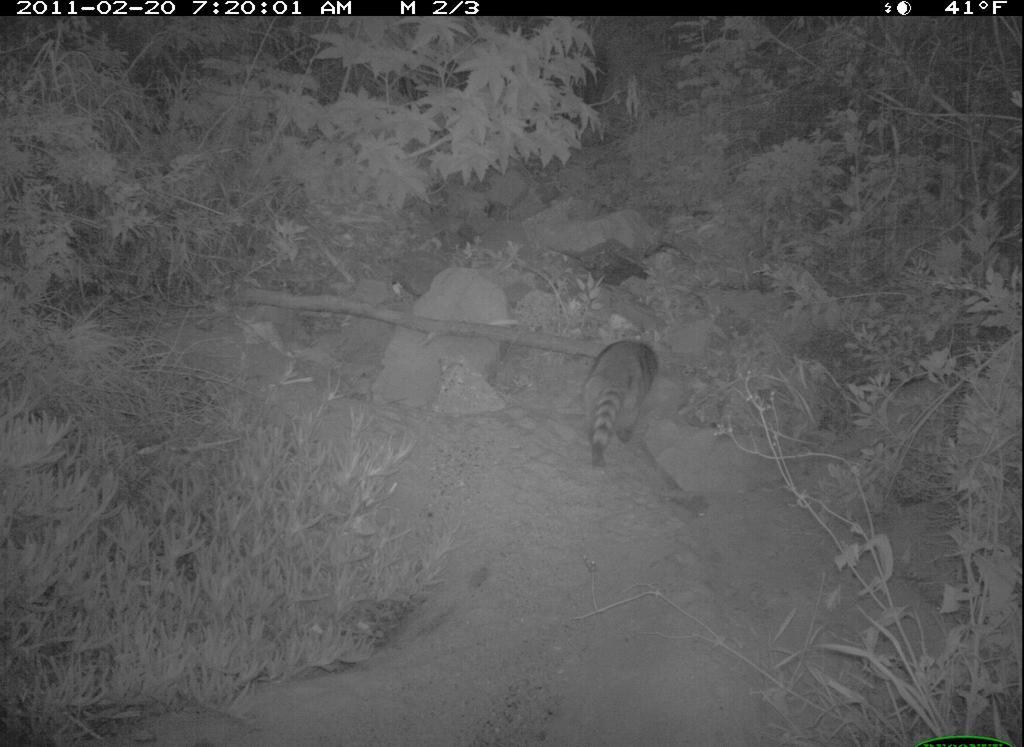raccoon: (575, 340, 670, 486)
